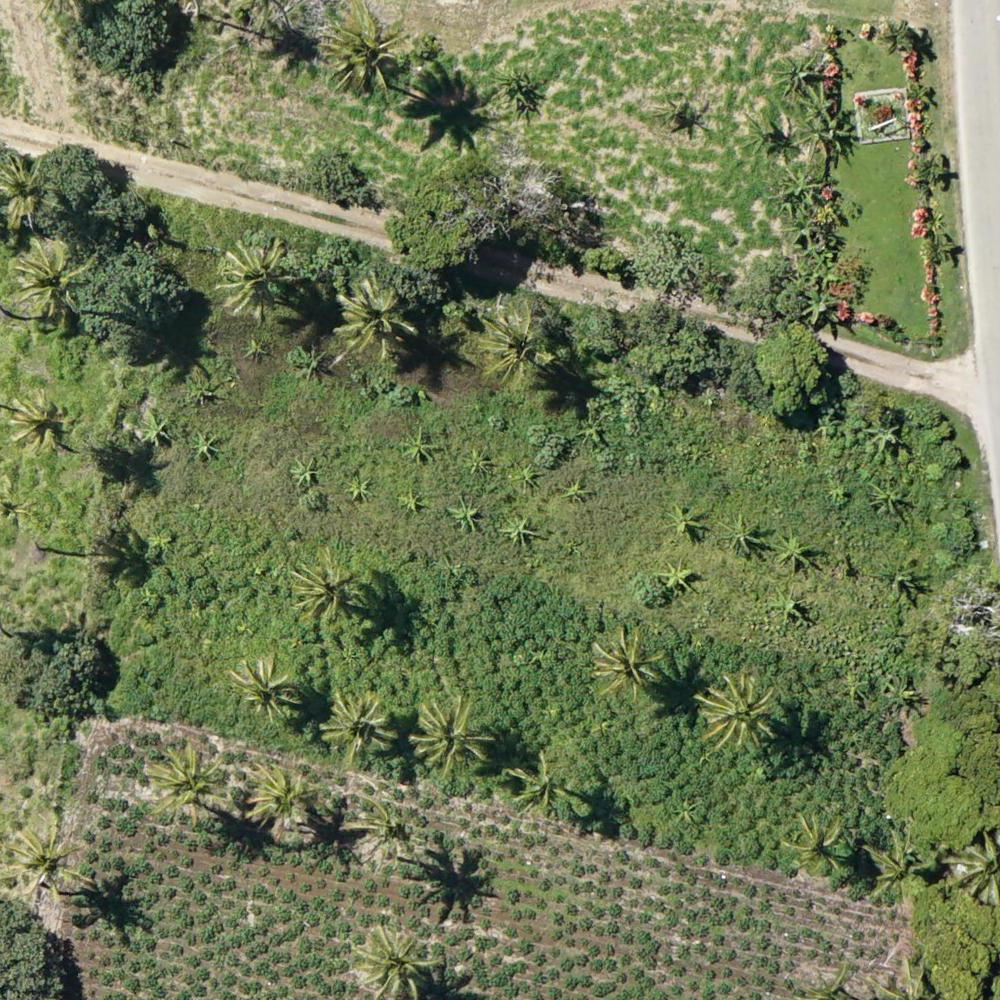Palm: (321, 5, 408, 97), (693, 674, 787, 754), (15, 234, 101, 318), (334, 273, 414, 360), (350, 925, 446, 997), (152, 747, 237, 825), (475, 297, 551, 383), (4, 822, 84, 897), (411, 698, 486, 776), (319, 688, 397, 762), (217, 238, 290, 317), (588, 631, 666, 698), (228, 657, 307, 722), (2, 154, 68, 230), (345, 789, 416, 859), (289, 554, 362, 622), (249, 755, 316, 819), (11, 391, 71, 454), (789, 815, 852, 873)
